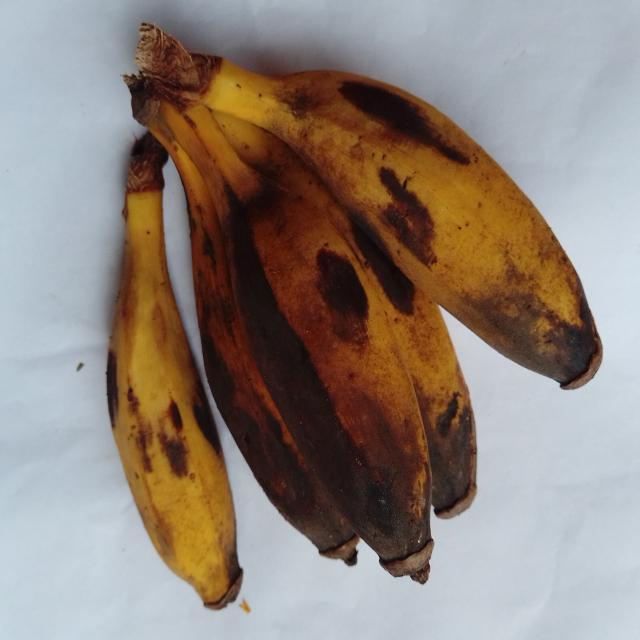banana: (129, 25, 601, 388), (149, 103, 433, 582), (214, 113, 476, 517), (149, 119, 358, 565), (107, 134, 242, 608)
